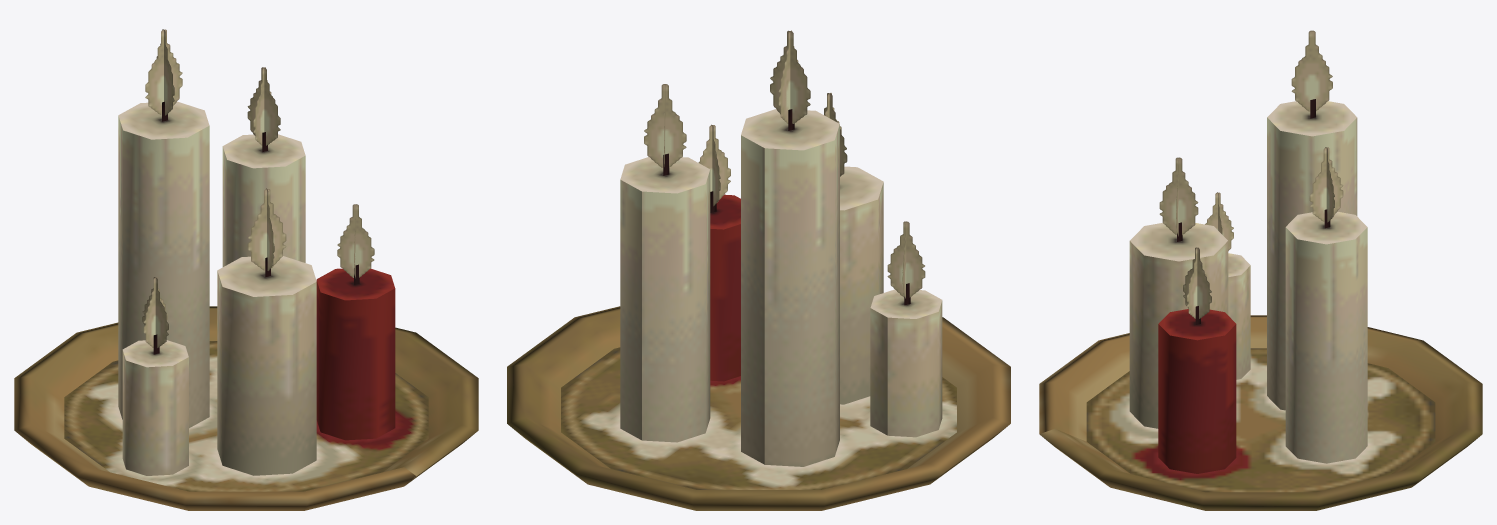
File: candles_cluster.obj
The picture shows the model from 3 angles, left to right: view 1: azimuth 30°, elevation 25°; view 2: azimuth 150°, elevation 25°; view 3: azimuth 270°, elevation 25°; orthographic projection. The views are drawn at different scales.
Visible parts, largest first — view 1: candles_cluster; view 2: candles_cluster; view 3: candles_cluster.
Part boxes in pixels (box(x1,y1,x2,y2)): candles_cluster: box(14, 29, 478, 510); candles_cluster: box(507, 30, 1010, 510); candles_cluster: box(1039, 30, 1482, 510).
Bounding box in the file's own units: 0.2164 × 0.211 × 0.2164.
2 materials, 2 textured.
